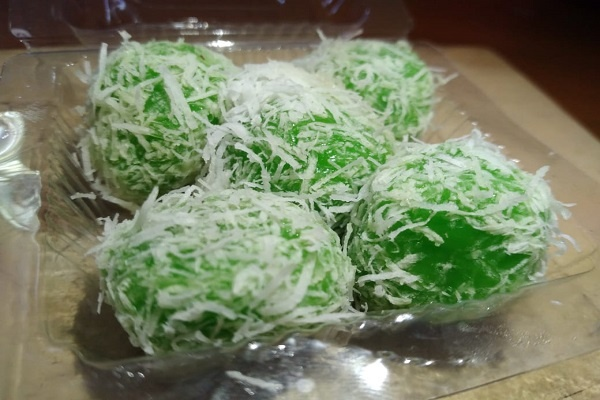klepon: (339, 140, 561, 320)
